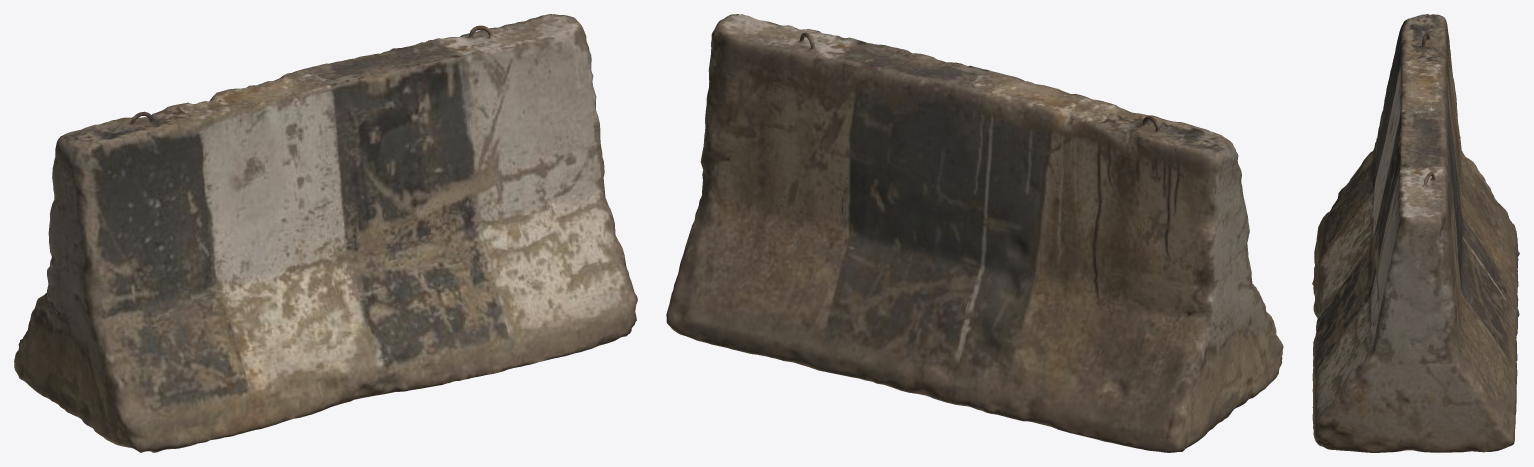
Rendered from concrete_road_barrier.glb.
3 views of the same model, side by side, from view 1: azimuth 30°, elevation 25°; view 2: azimuth 150°, elevation 25°; view 3: azimuth 270°, elevation 25° (orthographic). The views are drawn at different scales.
Visible parts, largest first — view 1: concrete_road_barrier; view 2: concrete_road_barrier; view 3: concrete_road_barrier.
Boxes of the visible parts, x1,y1,x2,y2 form: concrete_road_barrier: (14,14,637,452); concrete_road_barrier: (666,14,1283,452); concrete_road_barrier: (1312,14,1519,452).
Size of the model in its own units: 1.55 by 0.8308 by 0.6387.
1 material, 1 textured.
